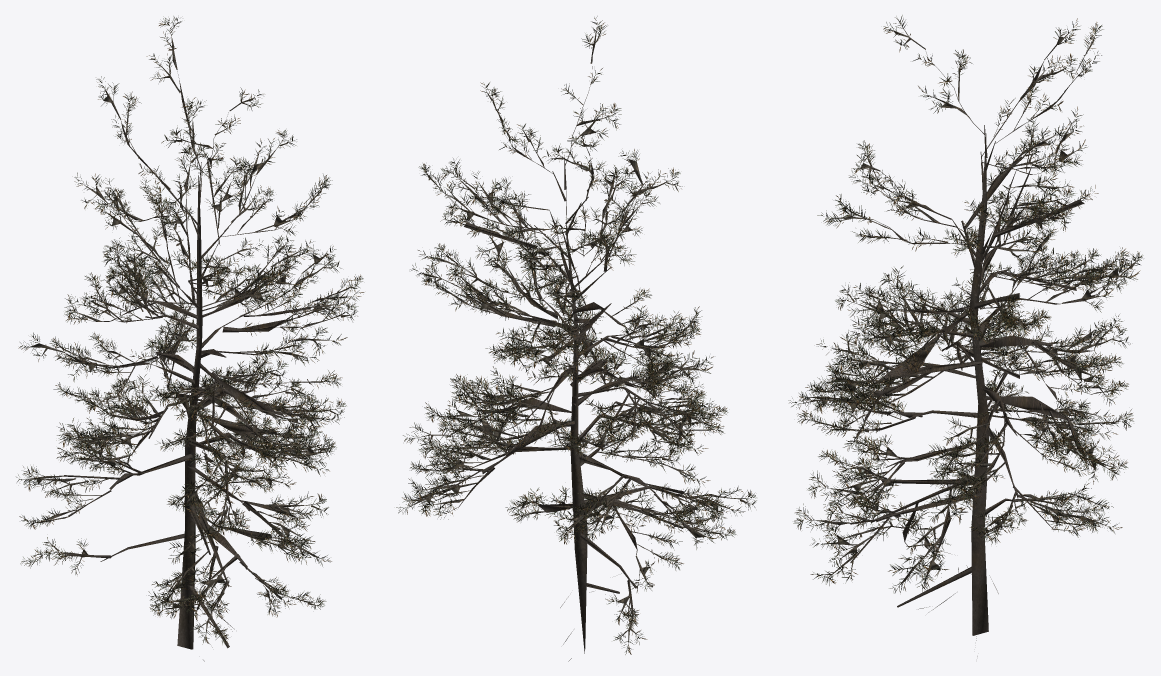
The model's file is pine_sapling_medium_c_LOD0.glb.
3 views of the same model, side by side, from view 1: azimuth 30°, elevation 25°; view 2: azimuth 150°, elevation 25°; view 3: azimuth 270°, elevation 25° (orthographic). The views are drawn at different scales.
Parts seen in each view (by area): view 1: pine_sapling_medium_c_LOD0; view 2: pine_sapling_medium_c_LOD0; view 3: pine_sapling_medium_c_LOD0.
Boxes of the visible parts, box(x1,y1,x2,y2) form: pine_sapling_medium_c_LOD0: box(16, 16, 364, 661); pine_sapling_medium_c_LOD0: box(396, 16, 756, 661); pine_sapling_medium_c_LOD0: box(788, 15, 1143, 656).
Size of the model in its own units: 3.81 by 6.99 by 3.51.
3 materials, 3 textured.
